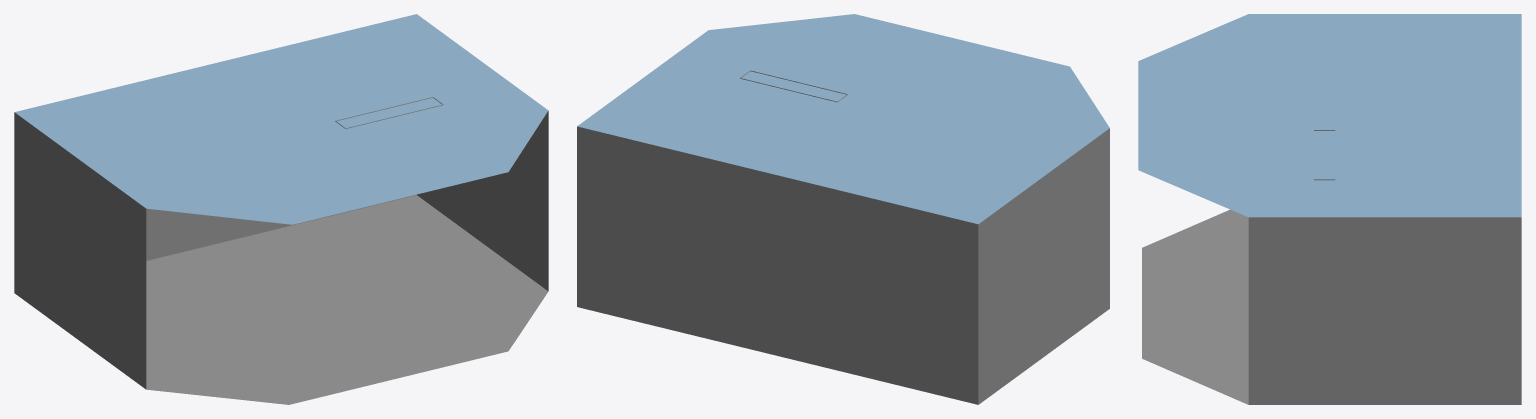
Rendered from room box bow.FBX.
3 renders of one model, left to right at view 1: azimuth 30°, elevation 25°; view 2: azimuth 150°, elevation 25°; view 3: azimuth 270°, elevation 25°, orthographic. The views are drawn at different scales.
Visible parts, largest first — view 1: walls002, roof002; view 2: walls002, roof002; view 3: roof002, walls002.
Part boxes in pixels (x1,y1,x2,y2): walls002: (14, 111, 548, 404); roof002: (14, 14, 548, 224); walls002: (577, 126, 1109, 404); roof002: (577, 14, 1109, 224); roof002: (1138, 14, 1521, 217); walls002: (1142, 209, 1521, 404).
Size of the model in its own units: 7.65 by 3.3 by 6.1.
